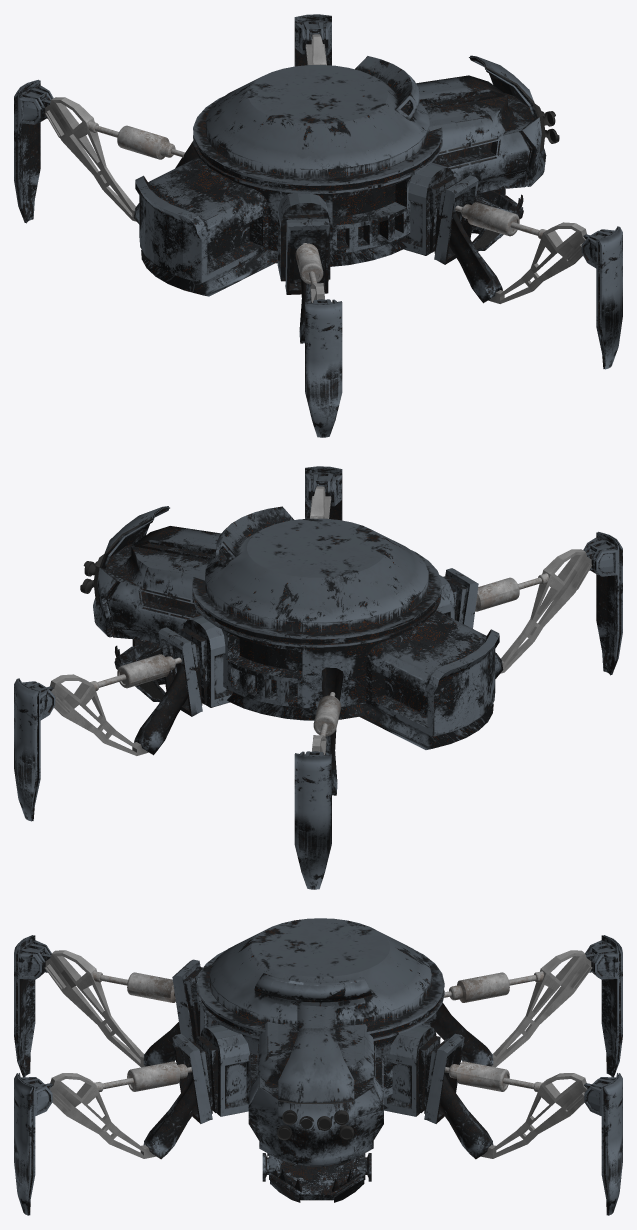
The model's file is boss_spider.glb.
3 renders of one model, top to bottom at view 1: azimuth 30°, elevation 25°; view 2: azimuth 150°, elevation 25°; view 3: azimuth 270°, elevation 25°, orthographic.
Parts seen in each view (by area): view 1: Cylinder.002_Material.003_0, Cube.004_Material.001_0, Cube.008_Material.004_0, Cube.010_Material.008_0, Cube.013_Material.004_0, Cube.005_Material.008_0, Cube.014_Material.008_0, Cube.015_Material.006_0, Cube.006_Material.006_0, Cube.007_Material.005_0, Cylinder.012_Material.007_0, Cylinder.009_Material.007_0 (+3 smaller); view 2: Cylinder.002_Material.003_0, Cube.004_Material.001_0, Cube.014_Material.008_0, Cube.009_Material.004_0, Cube.001_Material.008_0, Cube.010_Material.008_0, Cube.011_Material.006_0, Cube.002_Material.006_0, Cube.003_Material.005_0, Cube.013_Material.004_0, Cylinder.010_Material.007_0, Cube.005_Material.008_0 (+4 smaller); view 3: Cylinder.002_Material.003_0, Cube.004_Material.001_0, Cube.008_Material.004_0, Cube.009_Material.004_0, Cube.017_Material.002_0, Cube.011_Material.006_0, Cube.015_Material.006_0, Cube.005_Material.008_0, Cube.001_Material.008_0, Cube.010_Material.008_0, Cube.014_Material.008_0, Cube.006_Material.006_0 (+10 smaller).
Part boxes in pixels (bbox=[...]): Cylinder.002_Material.003_0: bbox=[135, 56, 442, 296]; Cube.004_Material.001_0: bbox=[416, 55, 546, 193]; Cube.008_Material.004_0: bbox=[399, 162, 478, 264]; Cube.010_Material.008_0: bbox=[305, 299, 342, 437]; Cube.013_Material.004_0: bbox=[277, 193, 330, 294]; Cube.005_Material.008_0: bbox=[581, 226, 622, 369]; Cube.014_Material.008_0: bbox=[14, 79, 53, 223]; Cube.015_Material.006_0: bbox=[44, 97, 136, 221]; Cube.006_Material.006_0: bbox=[488, 222, 586, 303]; Cube.007_Material.005_0: bbox=[449, 213, 502, 303]; Cylinder.012_Material.007_0: bbox=[88, 121, 185, 159]; Cylinder.009_Material.007_0: bbox=[455, 202, 546, 238]; Cylinder.002_Material.003_0: bbox=[192, 506, 499, 749]; Cube.004_Material.001_0: bbox=[93, 506, 220, 643]; Cube.014_Material.008_0: bbox=[294, 751, 331, 889]; Cube.009_Material.004_0: bbox=[158, 615, 233, 716]; Cube.001_Material.008_0: bbox=[14, 678, 55, 821]; Cube.010_Material.008_0: bbox=[583, 531, 622, 675]; Cube.011_Material.006_0: bbox=[500, 549, 592, 673]; Cube.002_Material.006_0: bbox=[50, 674, 148, 755]; Cube.003_Material.005_0: bbox=[134, 665, 187, 755]; Cube.013_Material.004_0: bbox=[436, 568, 478, 628]; Cylinder.010_Material.007_0: bbox=[90, 654, 181, 690]; Cube.005_Material.008_0: bbox=[305, 466, 342, 520]; Cylinder.002_Material.003_0: bbox=[196, 918, 444, 1109]; Cube.004_Material.001_0: bbox=[248, 1004, 383, 1167]; Cube.008_Material.004_0: bbox=[172, 1024, 249, 1123]; Cube.009_Material.004_0: bbox=[384, 1025, 464, 1123]; Cube.017_Material.002_0: bbox=[262, 1153, 371, 1202]; Cube.011_Material.006_0: bbox=[44, 950, 145, 1067]; Cube.015_Material.006_0: bbox=[491, 950, 592, 1067]; Cube.005_Material.008_0: bbox=[14, 1073, 52, 1215]; Cube.001_Material.008_0: bbox=[584, 1073, 622, 1215]; Cube.010_Material.008_0: bbox=[14, 935, 51, 1077]; Cube.014_Material.008_0: bbox=[585, 935, 622, 1077]; Cube.006_Material.006_0: bbox=[49, 1073, 155, 1158].
Bounding box in the file's own units: 4.1 × 2.05 × 5.6.
12 materials, 10 textured.
